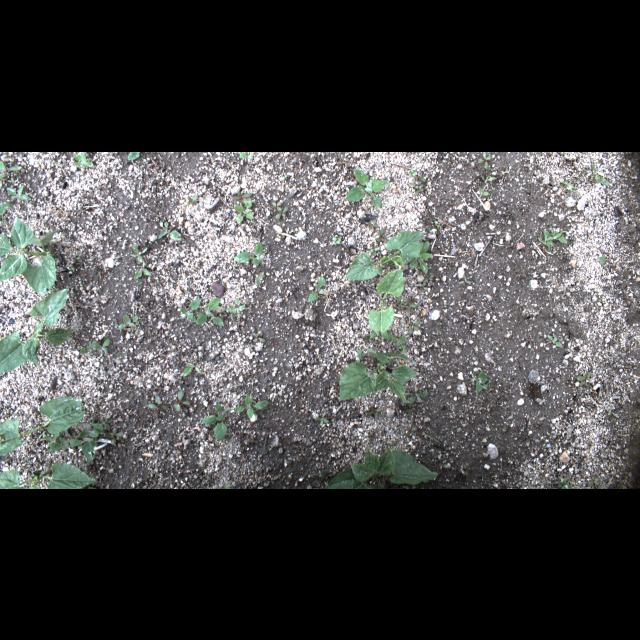crop: (1, 283, 81, 381), (2, 393, 92, 462), (336, 350, 420, 410), (344, 226, 434, 278), (1, 215, 61, 292), (326, 449, 442, 486), (1, 462, 98, 488), (368, 266, 402, 340)
weed: (45, 412, 109, 460), (344, 166, 390, 206), (172, 294, 226, 328), (199, 398, 231, 444), (477, 152, 497, 208), (128, 241, 152, 279), (237, 394, 269, 422), (235, 234, 265, 262), (530, 228, 574, 246), (464, 368, 492, 396), (156, 216, 188, 240), (302, 277, 330, 303), (86, 336, 112, 362), (0, 157, 30, 177), (236, 194, 254, 226), (3, 184, 31, 202), (142, 392, 170, 408), (174, 388, 194, 410), (116, 312, 140, 330), (70, 152, 96, 166), (273, 198, 287, 222), (182, 359, 202, 375)
